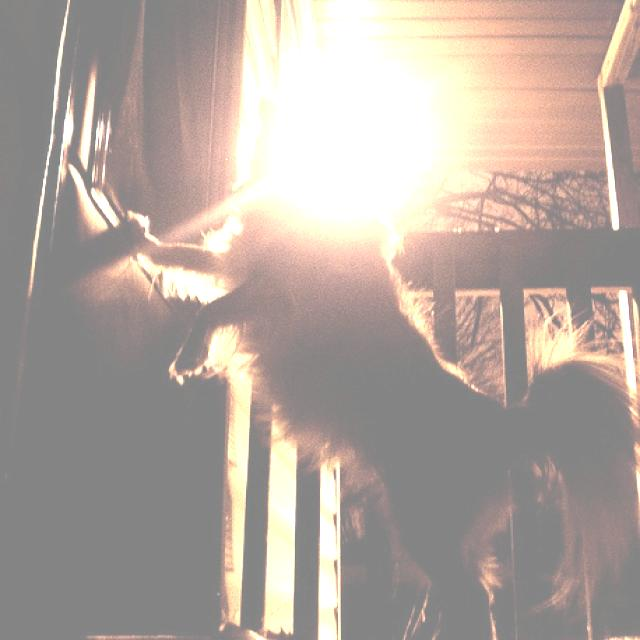Dog: (149, 87, 640, 640)
